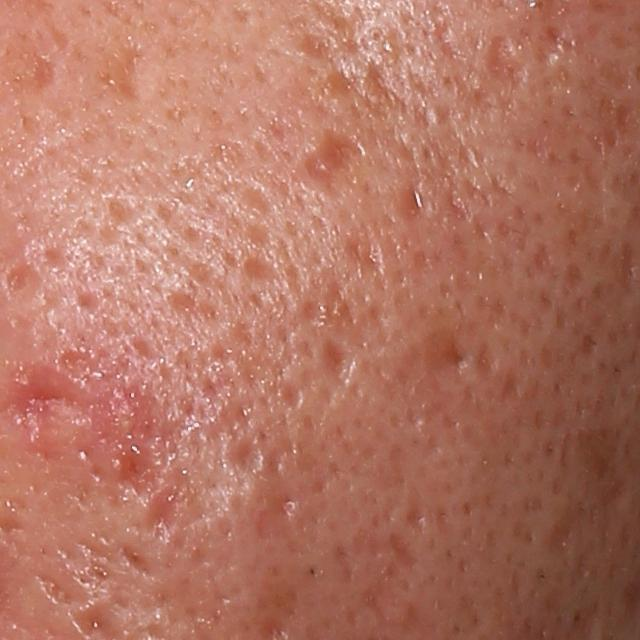atrophic_scar: (299, 126, 362, 198), (250, 492, 309, 558), (98, 36, 148, 104), (483, 31, 532, 91), (297, 282, 360, 327), (424, 324, 474, 380), (341, 235, 385, 280), (141, 483, 172, 545), (357, 579, 395, 629), (530, 21, 570, 68), (394, 182, 437, 224), (115, 536, 157, 579), (359, 53, 392, 105), (324, 338, 357, 388), (324, 54, 358, 100), (387, 528, 422, 571), (547, 509, 573, 564), (230, 437, 268, 474), (594, 56, 627, 93), (294, 31, 336, 60), (36, 575, 74, 607), (241, 256, 280, 286), (239, 186, 272, 221), (28, 52, 56, 93), (405, 481, 426, 534), (527, 244, 554, 285), (601, 479, 630, 513), (279, 377, 304, 414), (502, 366, 522, 404), (566, 263, 587, 290), (579, 334, 600, 357)
